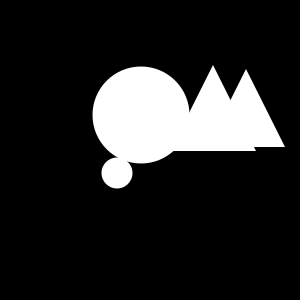rectangle: (92, 67, 189, 164), (102, 158, 132, 188)
triangle: (170, 65, 256, 151), (207, 69, 285, 147)
